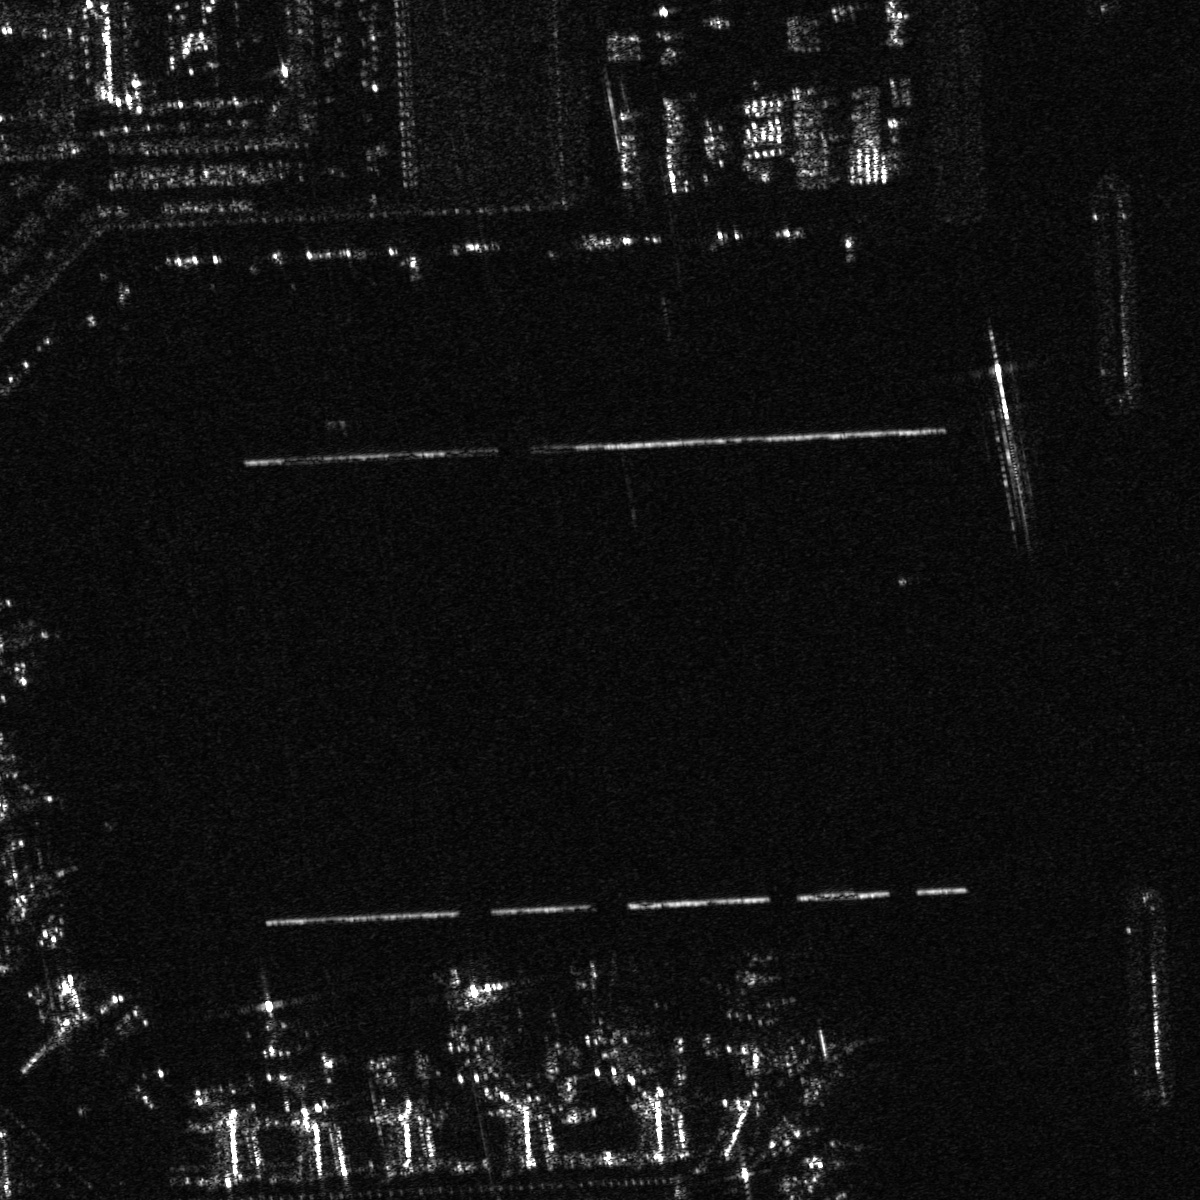A220: (236, 986, 300, 1038)
A320/321: (716, 964, 795, 1032), (438, 964, 515, 1023)
